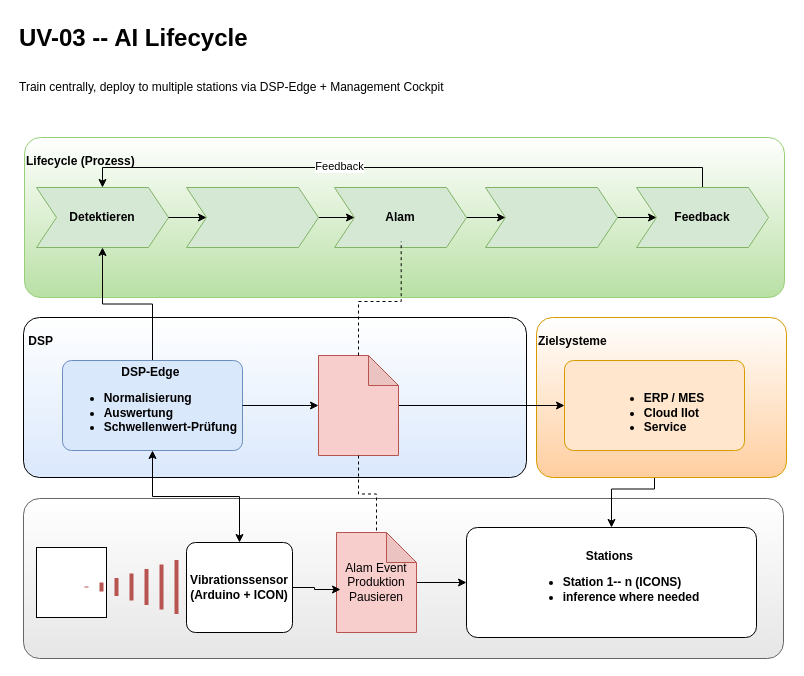
Image size: 804x676. Some labels were removed from this diagram. The shapes that lost their labels are listed below. From the top down, each one's box as (x1, y1, x2, y2) in pixels, then its label:
(186, 186, 318, 248): Bewerten
(484, 186, 618, 248): Aktion
(318, 354, 398, 456): Alam Event Stop/Safestate
(36, 546, 106, 618): Stimm gabel
(22, 498, 784, 658): Shopfloor: Devices / Stations
